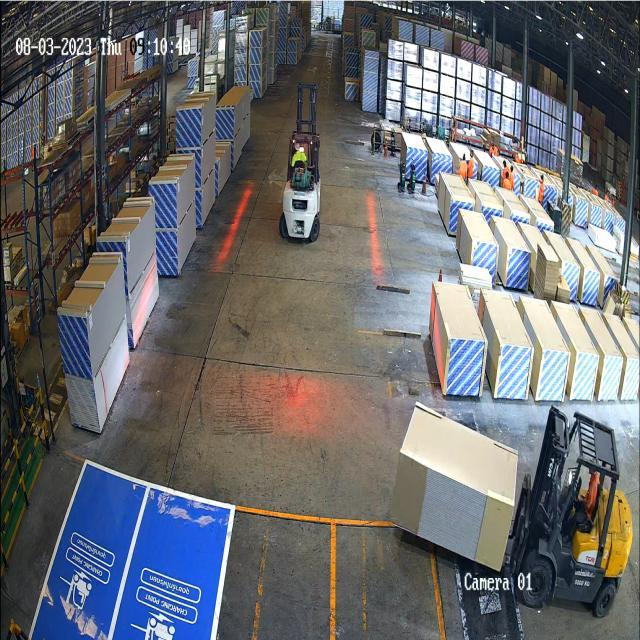driver: (573, 466, 602, 542), (291, 144, 310, 172)
forklift: (520, 395, 634, 626), (278, 76, 324, 247)
person: (467, 148, 474, 180), (458, 152, 466, 178), (538, 174, 544, 204), (504, 171, 512, 190)
